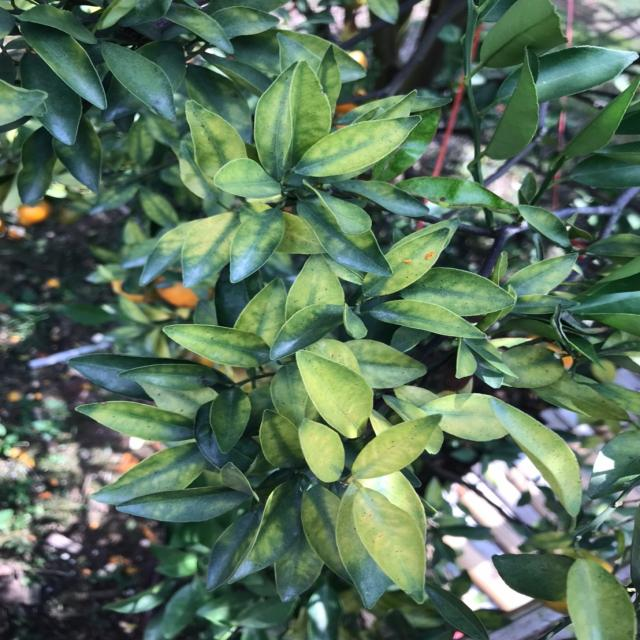blackspot: (497, 402, 586, 518), (298, 113, 421, 181), (357, 496, 433, 597), (219, 498, 302, 578), (180, 97, 247, 180), (97, 450, 201, 502), (284, 61, 332, 169), (91, 398, 193, 448), (249, 62, 293, 172), (341, 336, 428, 384), (410, 272, 514, 311), (352, 420, 428, 472), (306, 358, 366, 423), (426, 395, 512, 440), (284, 260, 348, 320), (170, 326, 267, 365), (548, 377, 630, 422), (246, 205, 324, 252), (379, 233, 447, 285), (184, 213, 238, 277), (125, 490, 242, 519), (225, 214, 282, 273), (490, 346, 564, 388), (239, 280, 291, 335), (144, 380, 216, 417), (143, 220, 192, 273), (208, 390, 252, 445), (266, 368, 313, 419), (213, 158, 272, 198)
